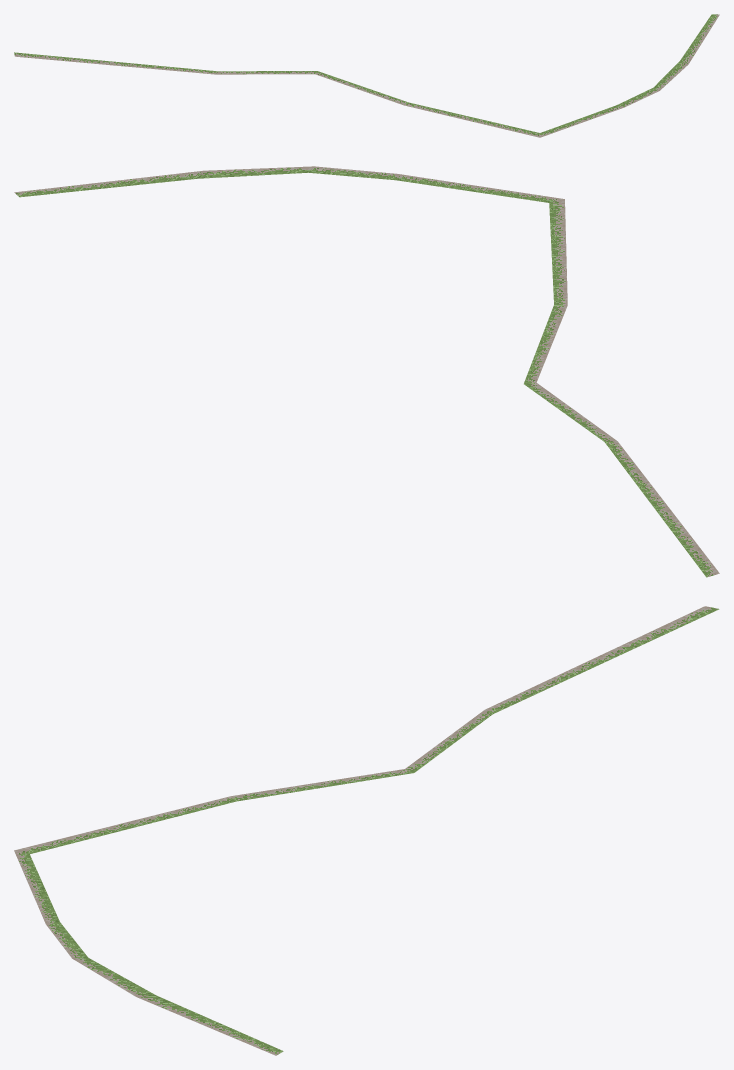
Rendered from kd_connection_town-ground_surface_3_52.glb.
3 renders of one model, top to bottom at view 1: azimuth 30°, elevation 25°; view 2: azimuth 150°, elevation 25°; view 3: azimuth 270°, elevation 25°, orthographic. The views are drawn at different scales.
Visible parts, largest first — view 1: kd_connection_town-ground_surface_3_52; view 2: kd_connection_town-ground_surface_3_52; view 3: kd_connection_town-ground_surface_3_52.
Part boxes in pixels (left/top/right/bottom): kd_connection_town-ground_surface_3_52: left=14, top=14, right=719, bottom=137; kd_connection_town-ground_surface_3_52: left=14, top=166, right=719, bottom=577; kd_connection_town-ground_surface_3_52: left=14, top=606, right=719, bottom=1055.
Size of the model in its own units: 2.67 by 0.000342 by 1.77.
1 material, 1 textured.
